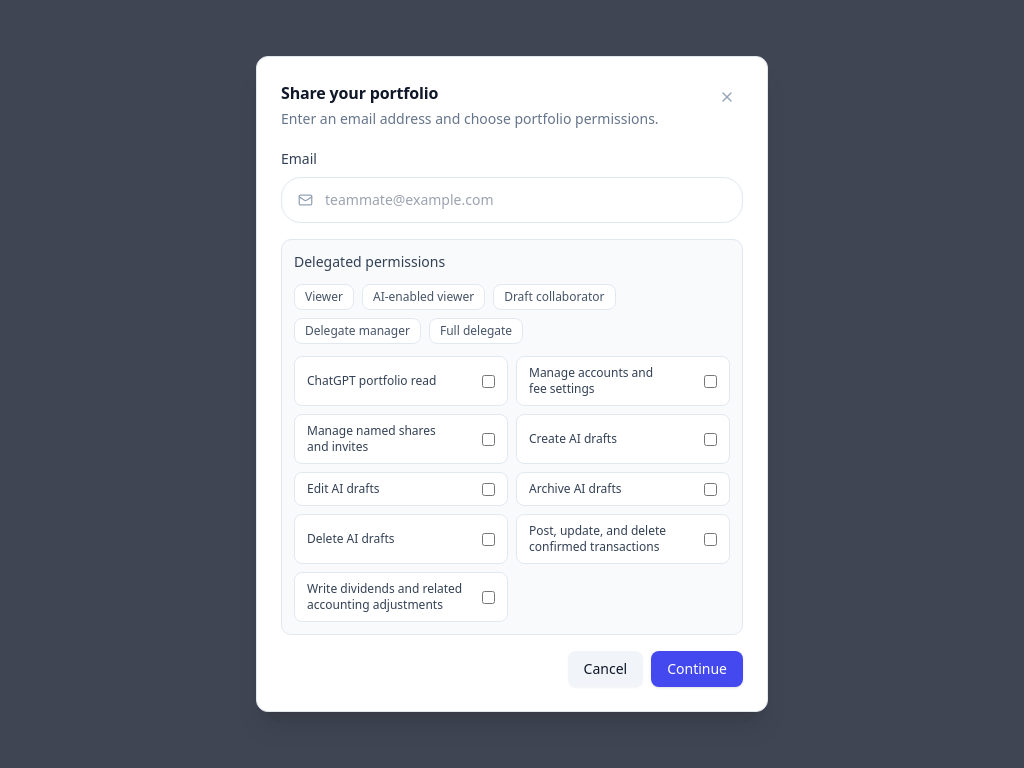
Test: GrantShareDialog › includes dividend writes in the delegate manager preset
This screenshot has width=1024, height=768.
Click the button with test id "grant-share-preset-delegateManager" at [357, 331], box top-left (294, 318), bottom-right (421, 344)
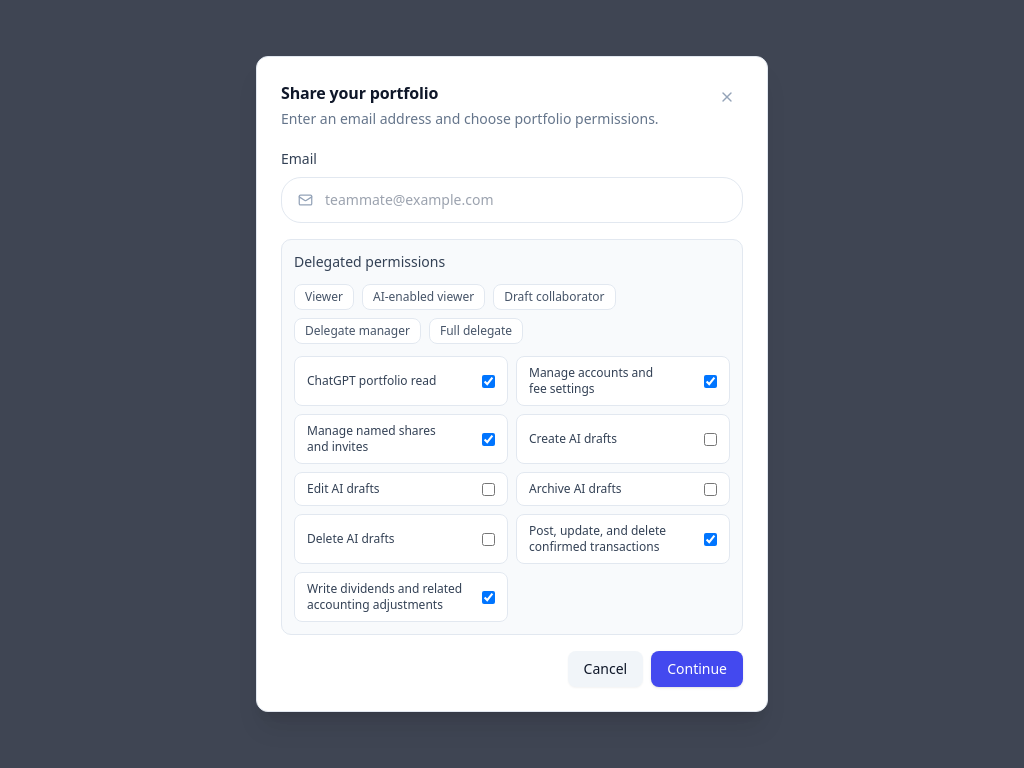
Now the checkbox with test id "grant-share-capability-dividend:write" is checked, box top-left (482, 590), bottom-right (495, 604)
